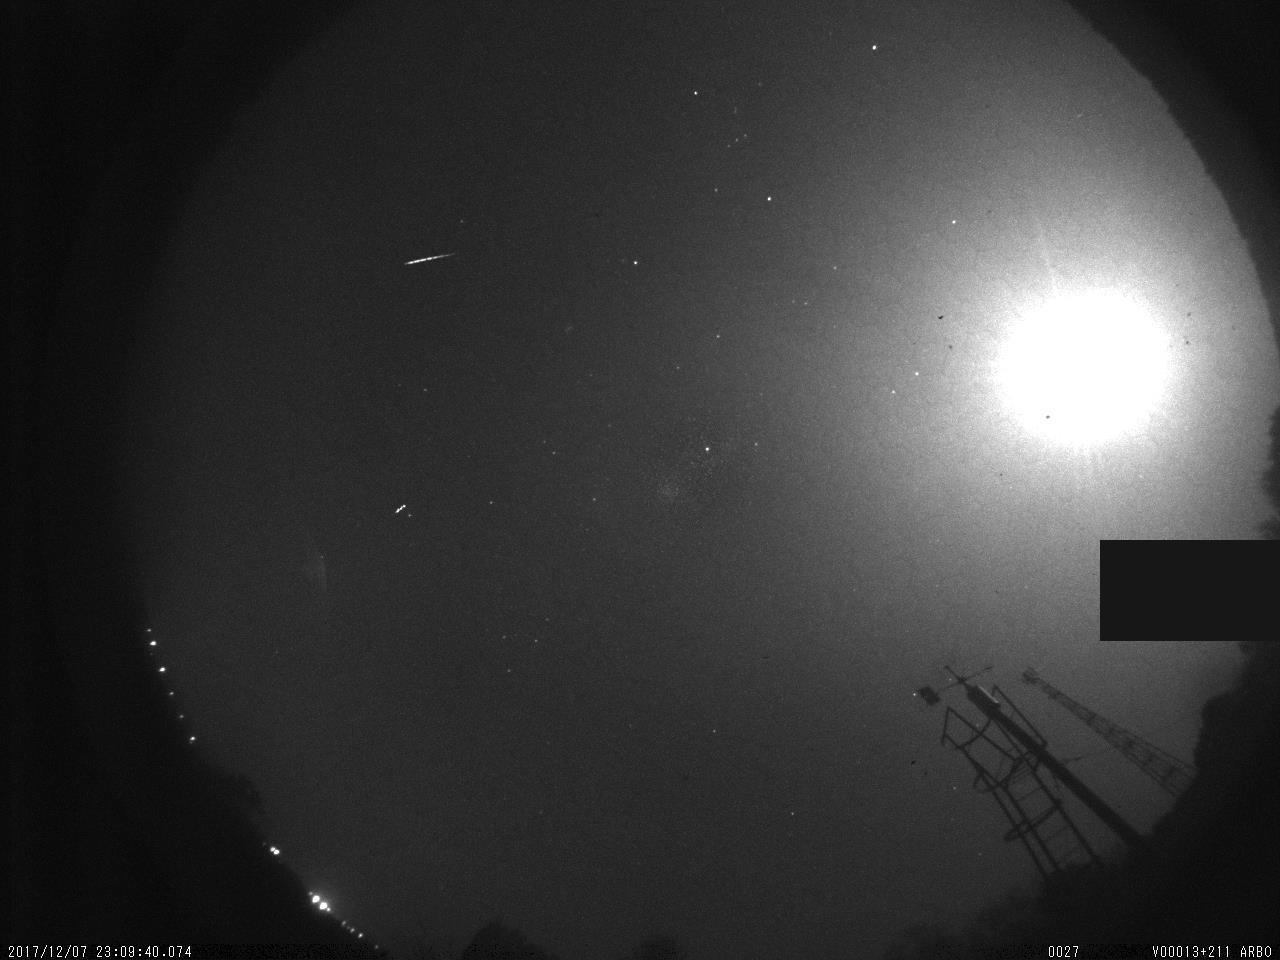Meteor: (403, 249, 458, 267)
